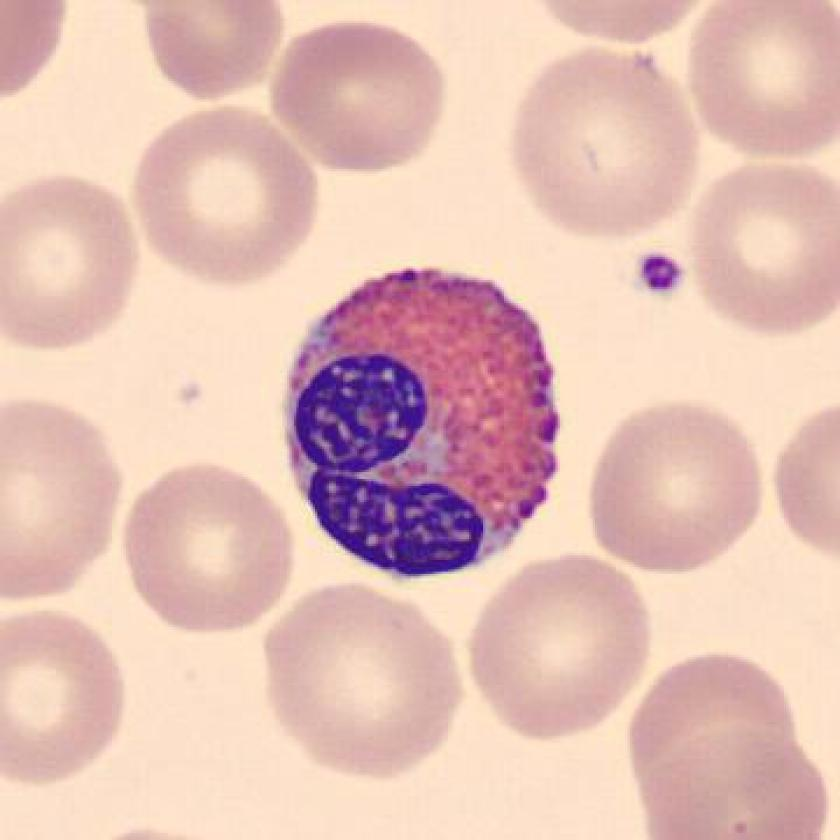eosinophil: (272, 253, 575, 596)
